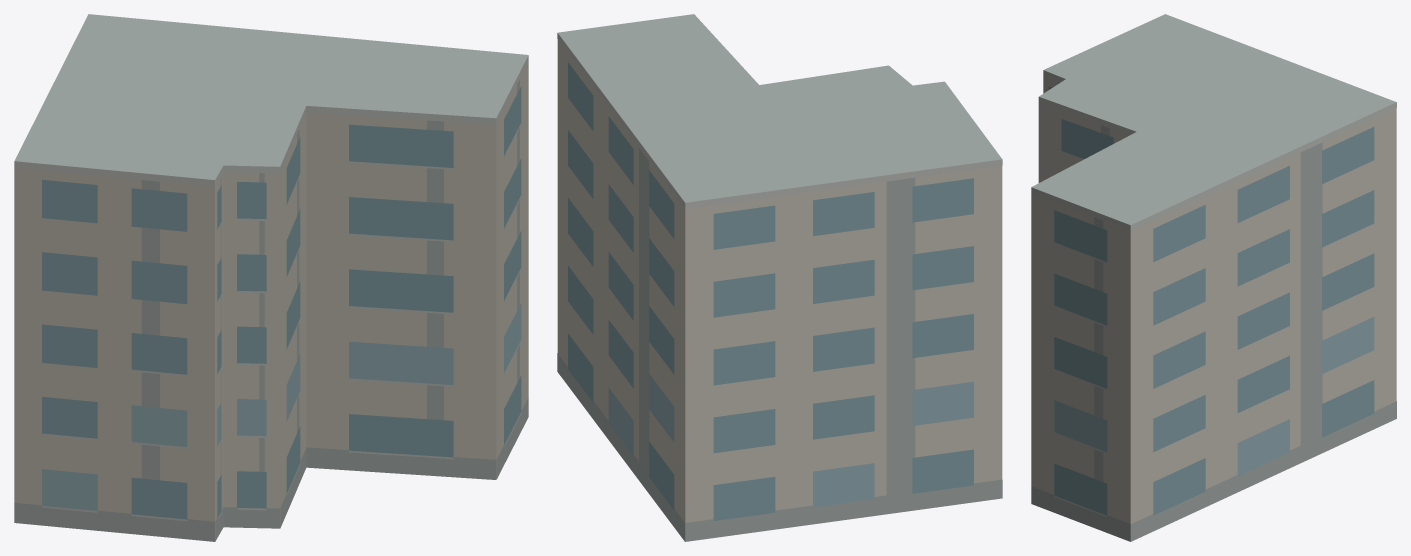
File: survey-upis-32933521.glb
3 views of the same model, side by side, from view 1: azimuth 30°, elevation 25°; view 2: azimuth 150°, elevation 25°; view 3: azimuth 270°, elevation 25° (orthographic). The views are drawn at different scales.
Parts seen in each view (by area): view 1: survey-upis-32933521.tmp; view 2: survey-upis-32933521.tmp; view 3: survey-upis-32933521.tmp.
Part boxes in pixels (bbox=[...]): survey-upis-32933521.tmp: bbox=[14, 14, 528, 541]; survey-upis-32933521.tmp: bbox=[557, 14, 1002, 541]; survey-upis-32933521.tmp: bbox=[1031, 14, 1396, 541].
Size of the model in its own units: 18.6 by 13 by 13.61.
